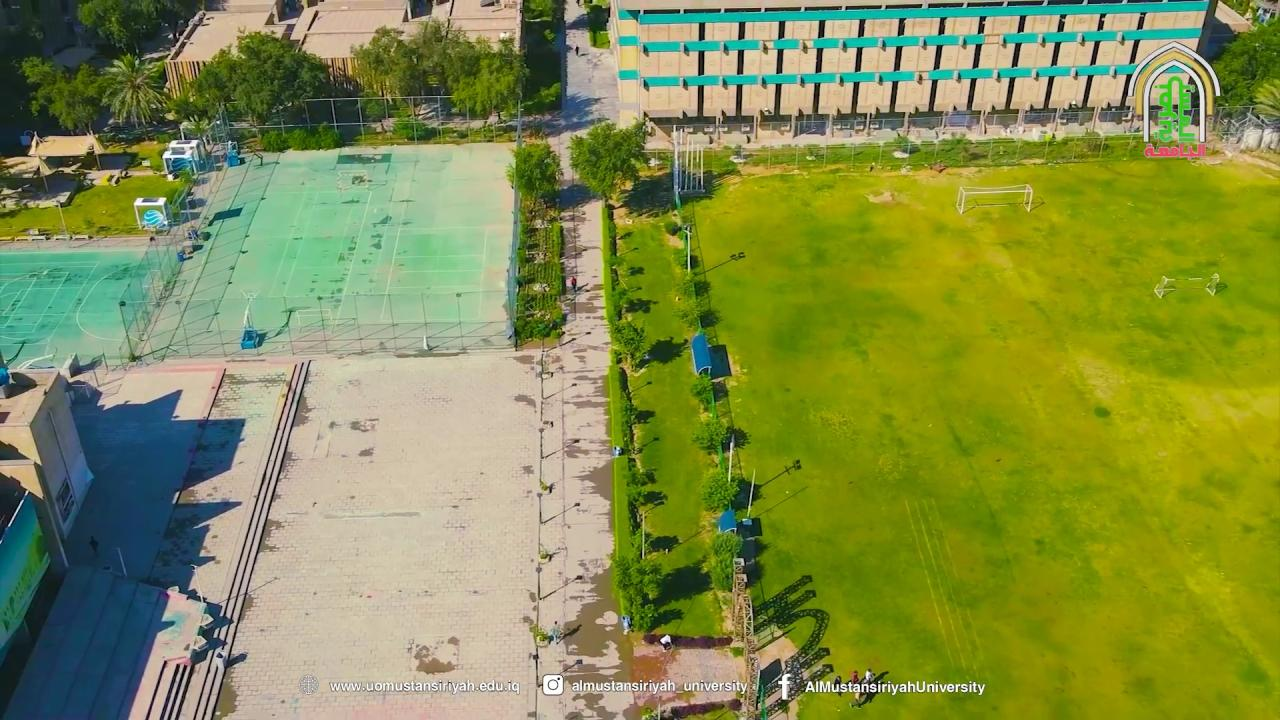person: (859, 669, 876, 706), (849, 670, 862, 705), (550, 620, 560, 644), (659, 634, 672, 652), (621, 614, 631, 635), (833, 674, 842, 696), (568, 275, 576, 293)
tree: (350, 15, 530, 138), (566, 117, 648, 363), (173, 26, 330, 149), (504, 139, 565, 347), (1210, 13, 1280, 124), (567, 117, 647, 207), (19, 54, 104, 136), (448, 33, 528, 120), (406, 16, 474, 118), (75, 0, 197, 53), (349, 23, 414, 120), (98, 51, 167, 129), (610, 551, 664, 633), (504, 138, 562, 212), (690, 411, 751, 480), (623, 460, 666, 530), (699, 530, 743, 593), (607, 314, 650, 372), (700, 466, 739, 514), (690, 411, 727, 461), (721, 424, 750, 480), (690, 369, 716, 411)
